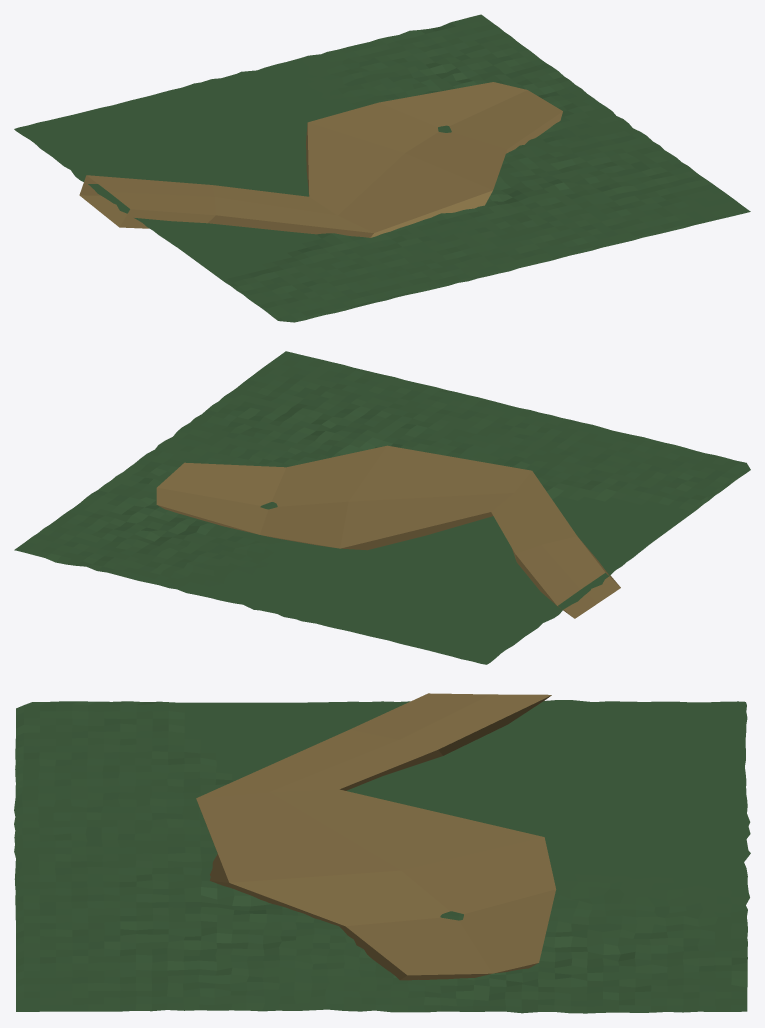
Rendered from athili_copse_section18.glb.
3 renders of one model, top to bottom at view 1: azimuth 30°, elevation 25°; view 2: azimuth 150°, elevation 25°; view 3: azimuth 270°, elevation 25°, orthographic. The views are drawn at different scales.
Visible parts, largest first — view 1: Grass, Road; view 2: Grass, Road; view 3: Grass, Road.
Part boxes in pixels (<box>): Grass: <box>14,14,750,322</box>; Road: <box>79,82,562,237</box>; Grass: <box>14,351,750,664</box>; Road: <box>156,445,620,618</box>; Grass: <box>14,700,750,1013</box>; Road: <box>196,693,556,980</box>.
Bounding box in the file's own units: 61.05 × 2.09 × 59.59.
